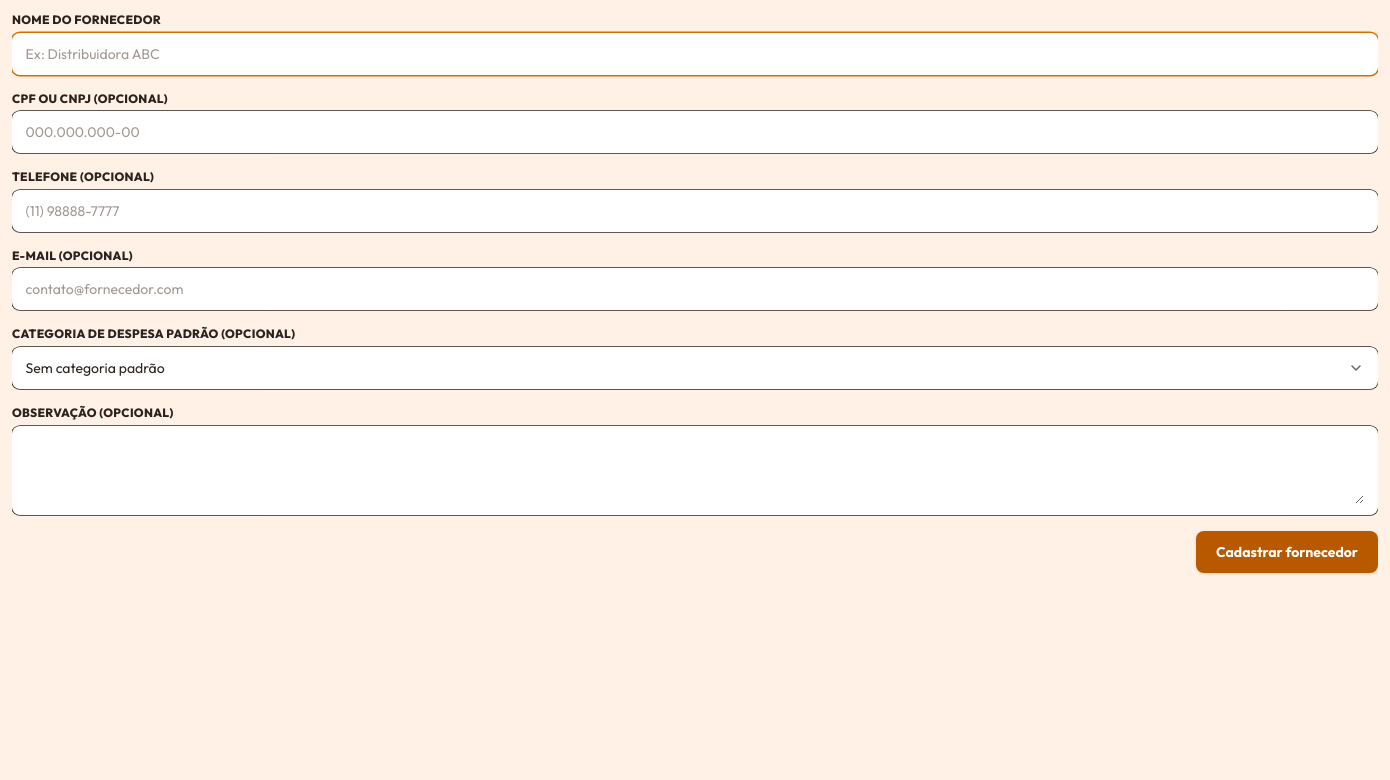
Scenario: FornecedorForm (spec 047, ticket 07) › sugere a correção de domínio digitado errado ao sair do campo
This screenshot has width=1390, height=780.
Type "contato@gmial.com" into the field labelled "E-mail (opcional)" at (695, 289), box [26,271,1364,307]
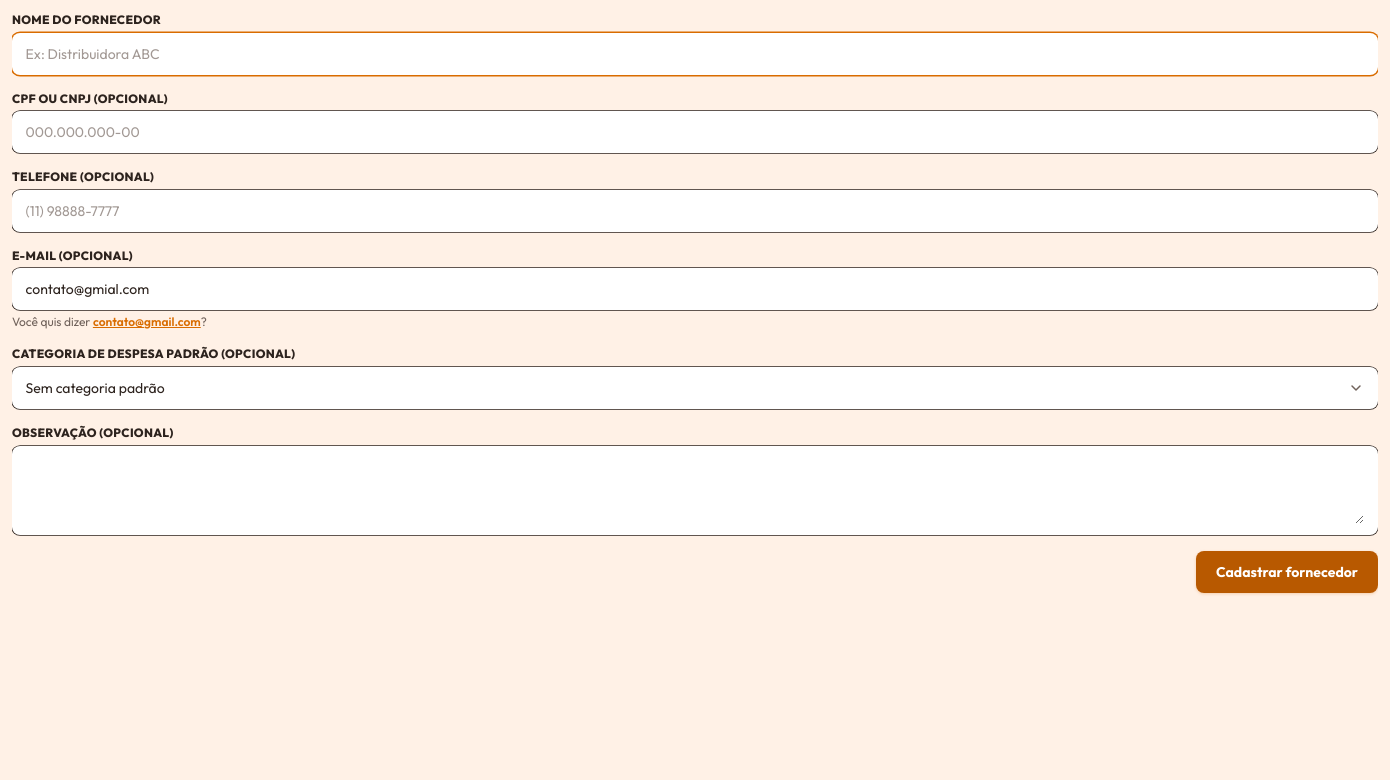
Click the button "contato@gmail.com" at (147, 322), box [93,314,201,330]
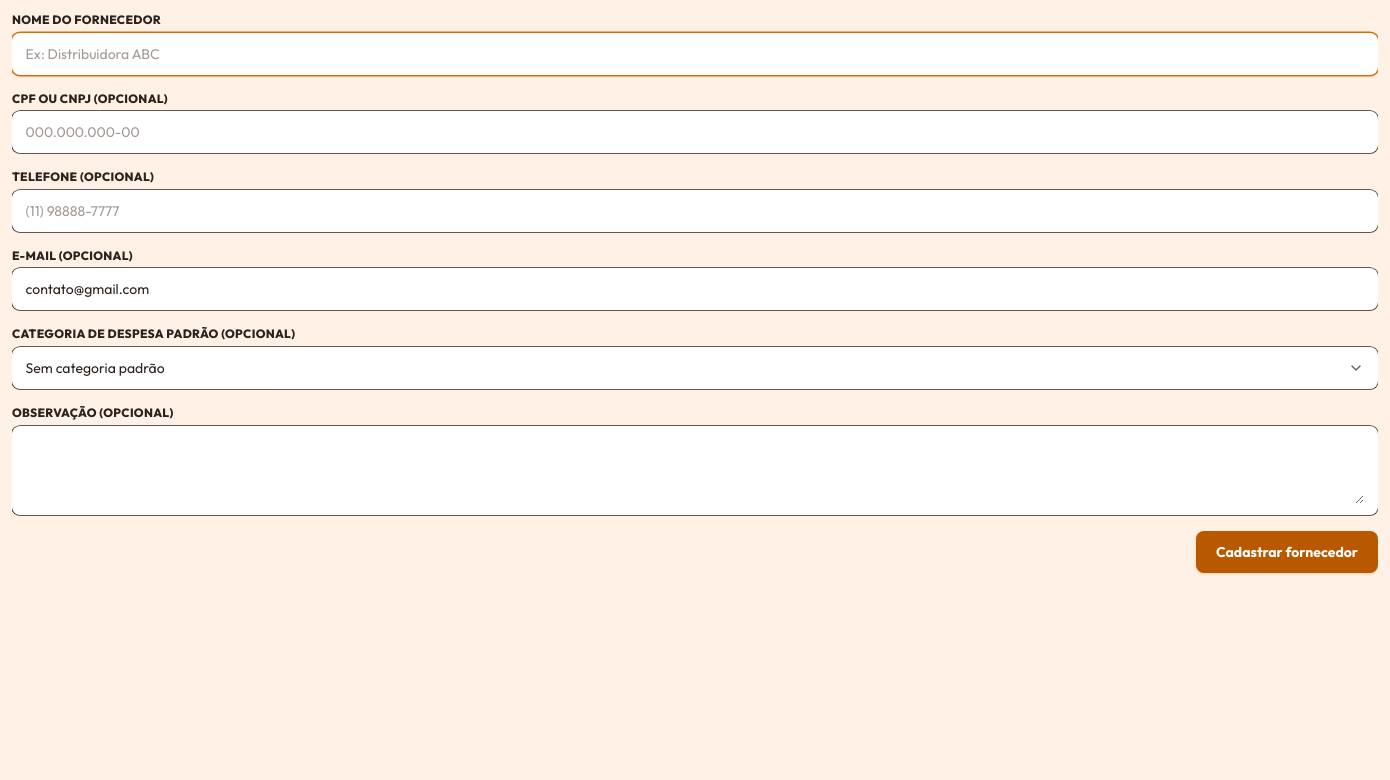
Expected: the field labelled "E-mail (opcional)" holds "contato@gmail.com", [26,271,1364,307]
